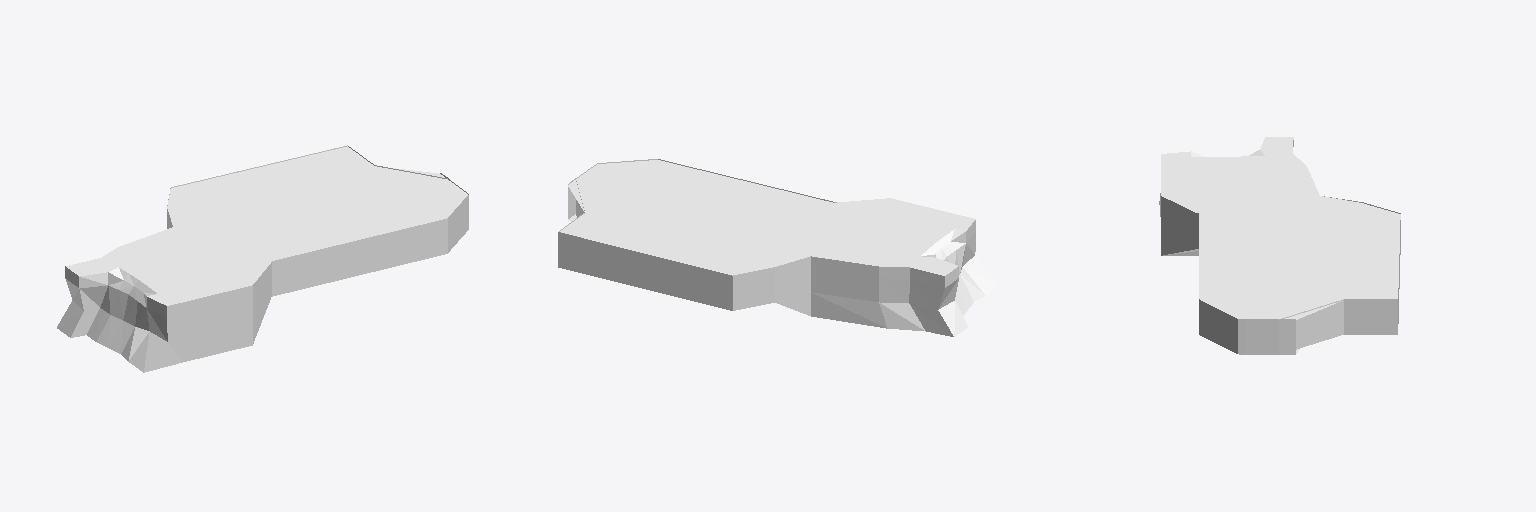
Rendered from Area 2 Floor.obj.
The picture shows the model from 3 angles: view 1: azimuth 30°, elevation 25°; view 2: azimuth 150°, elevation 25°; view 3: azimuth 270°, elevation 25°; orthographic projection.
Visible parts, largest first — view 1: Area 2 Floor; view 2: Area 2 Floor; view 3: Area 2 Floor.
Part boxes in pixels (bbox=[...]): Area 2 Floor: bbox=[57, 145, 468, 372]; Area 2 Floor: bbox=[558, 159, 1000, 336]; Area 2 Floor: bbox=[1159, 137, 1400, 354].
Size of the model in its own units: 104 by 15.68 by 56.07.